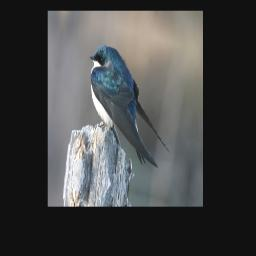Swallow: (81, 40, 180, 173)
